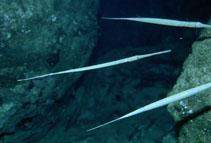Fistularia commersonii: (12, 55, 193, 77), (94, 11, 211, 39)
